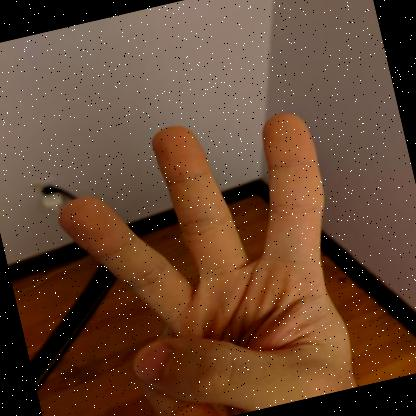W: (58, 113, 357, 416)
